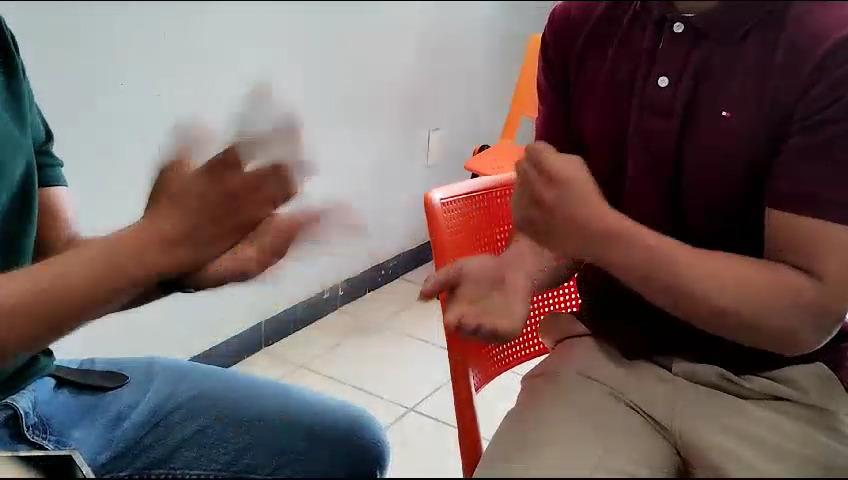Stone: (500, 131, 626, 268)
